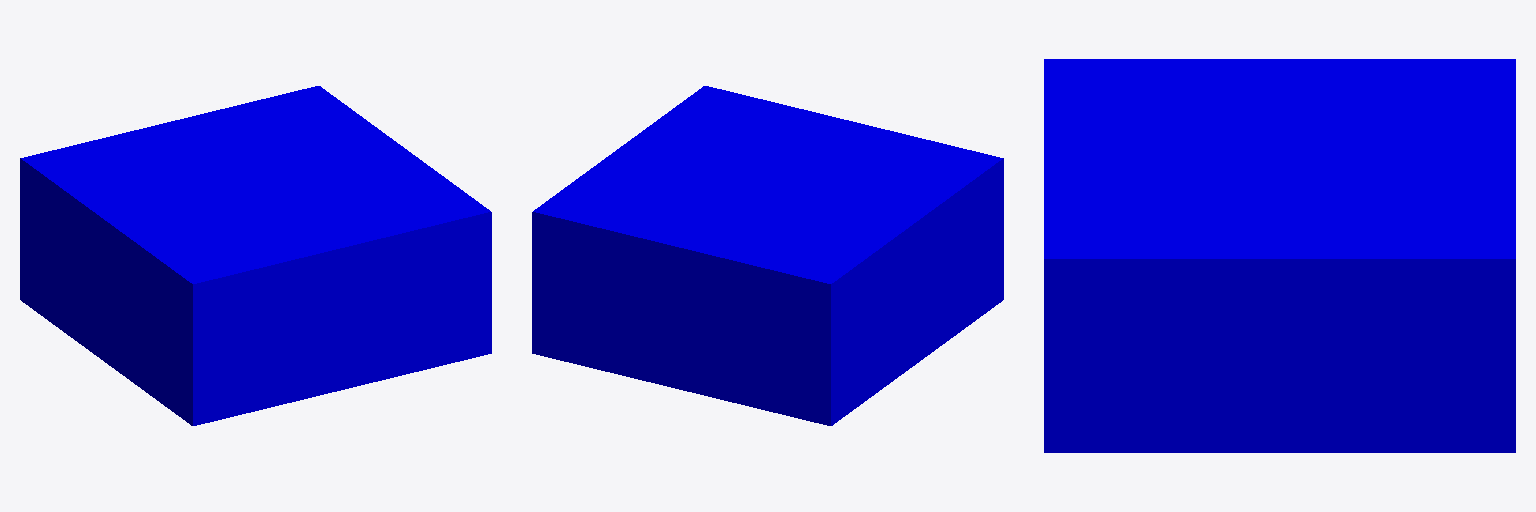
robot.urdf — large_box:
<?xml version="1.0" ?>
<robot name="large_box">
  <link name="base">
    <inertial>
      <mass value="0.15"/>
      <inertia ixx="0.00003" iyy="0.00003" izz="0.00003"/>
    </inertial>
    <visual>
      <geometry>
        <box size="0.11 0.11 0.05"/>
      </geometry>
      <material name="blue">
        <color rgba="0 0 1 1"/>
      </material>
    </visual>
    <collision>
      <geometry>
        <box size="0.05 0.11 0.05"/>
      </geometry>
    </collision>
  </link>
</robot>

--- What the picture shows (computed from the rendered views, not written in the file) ---
The picture shows the robot from 3 angles, left to right: view 1: azimuth 30°, elevation 25°; view 2: azimuth 150°, elevation 25°; view 3: azimuth 270°, elevation 25°; orthographic projection.
Model large_box with 1 links and 0 joints (none), rooted at base, posed all joints at 0.
Visible links, largest first — view 1: base; view 2: base; view 3: base.
Link boxes in pixels (x1,y1,x2,y2): base: (20, 86, 491, 425); base: (532, 86, 1003, 425); base: (1044, 59, 1515, 452).
Bounding box of the posed robot: 0.11 × 0.11 × 0.05 m (x, y, z).
Geometry: primitives only (box / cylinder / sphere), no mesh files.